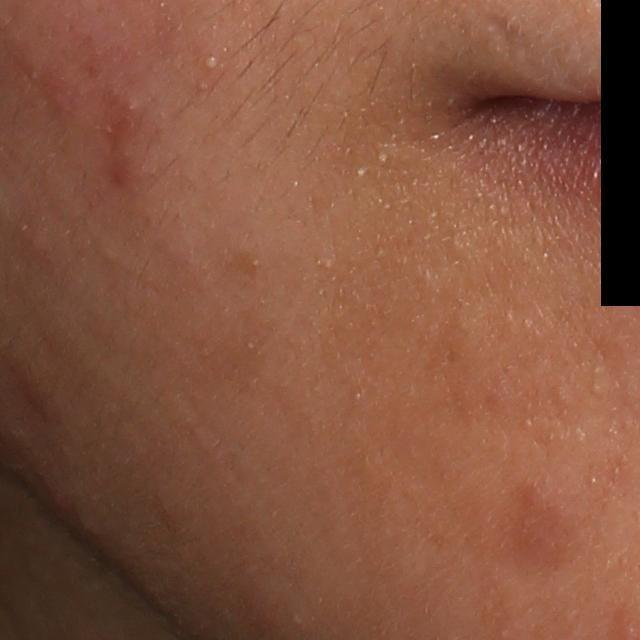atrophic_scar: (476, 10, 548, 73)
comedo: (126, 100, 141, 115)
pustule: (199, 51, 224, 74)
